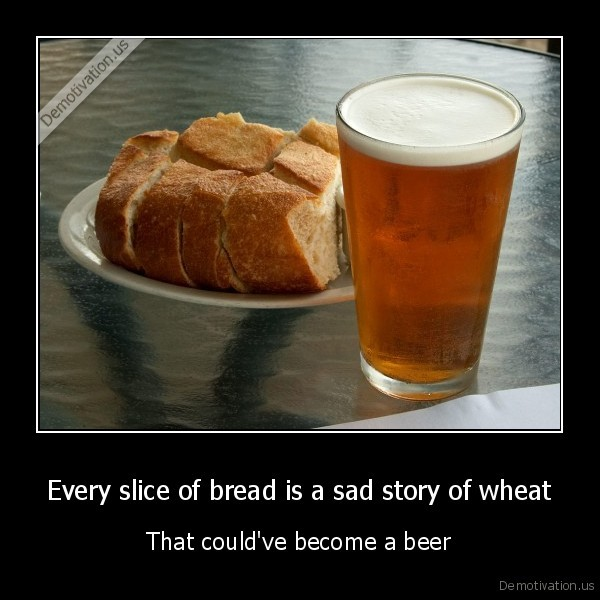slice of bread: (121, 134, 340, 283)
